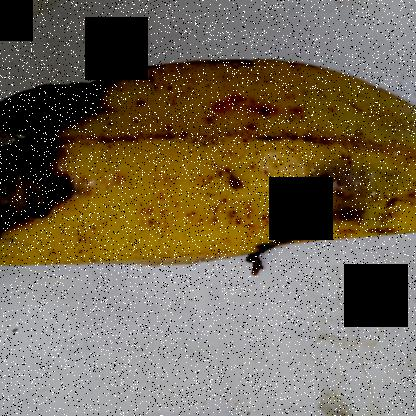rotten: (230, 144, 388, 311), (1, 71, 123, 269)
